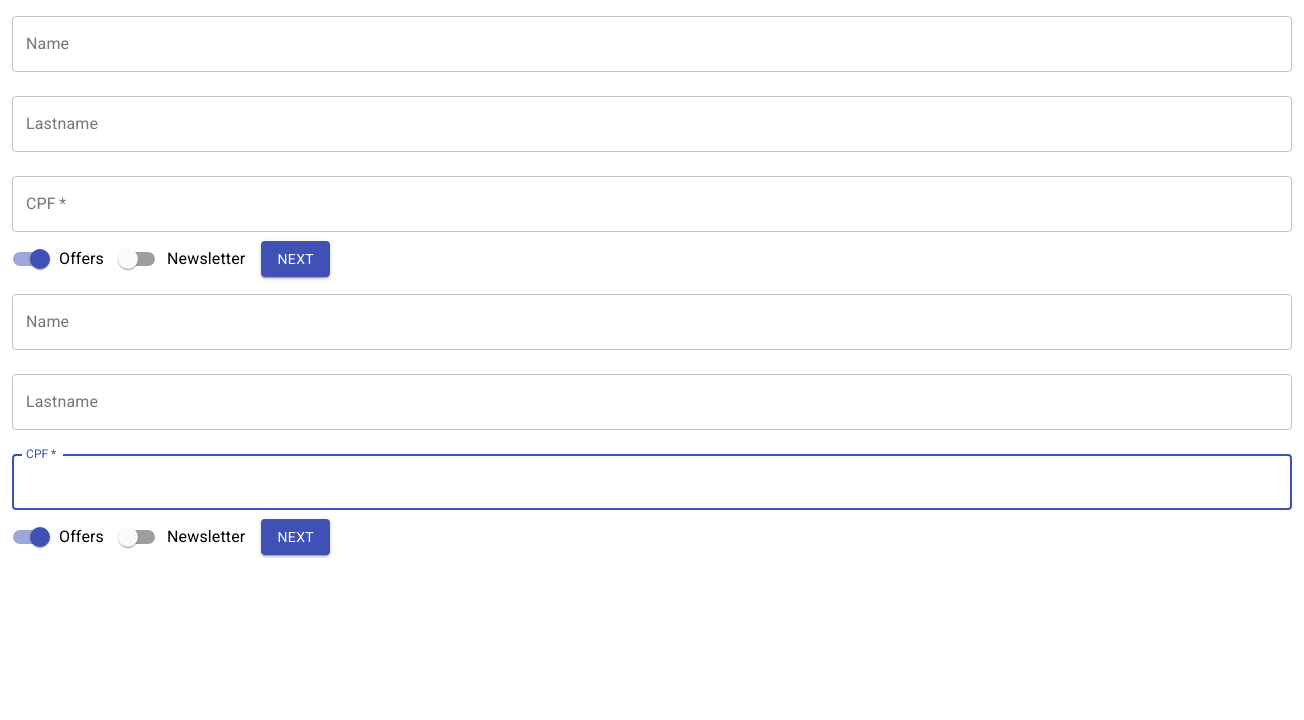
Components - PersonalInfo Form › should show error message in CPF if validation fails
This screenshot has width=1304, height=720.
Type "12345" into the field with id "cpf" at (652, 482), box [12,454,1292,510]
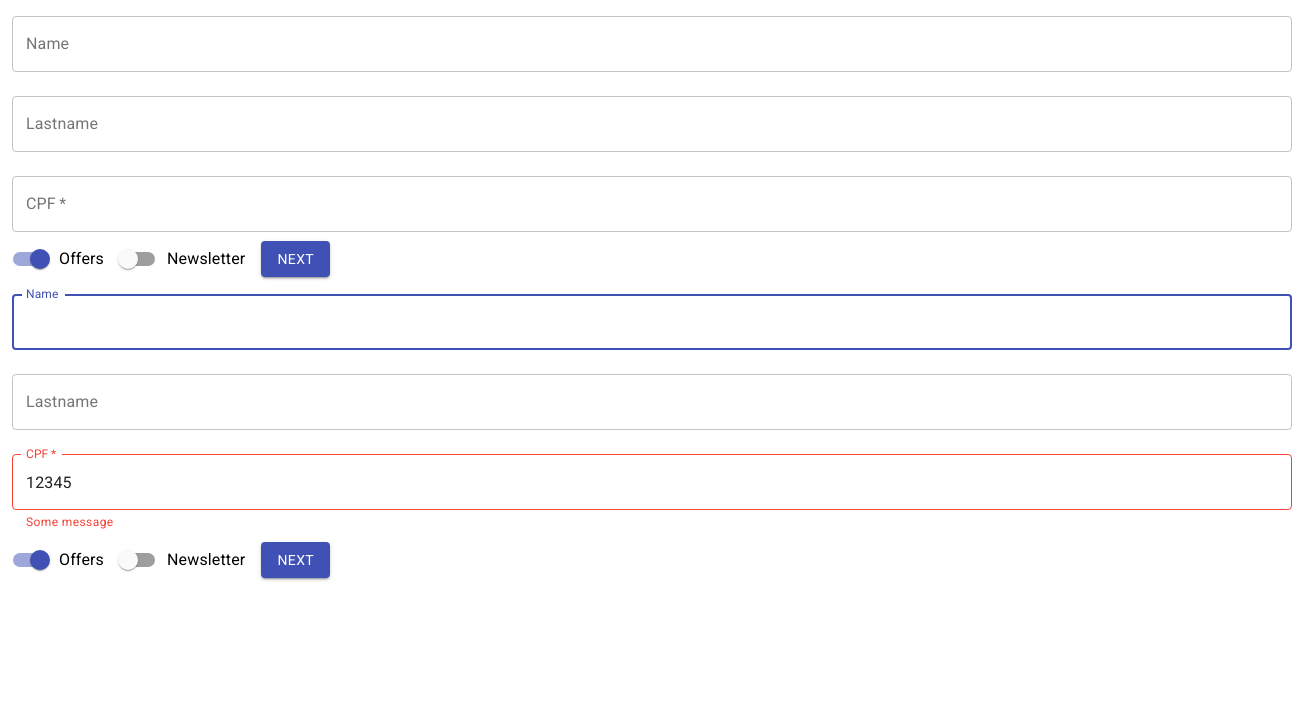
Expected: the text "Some message" is shown once, [26,515,114,529]
